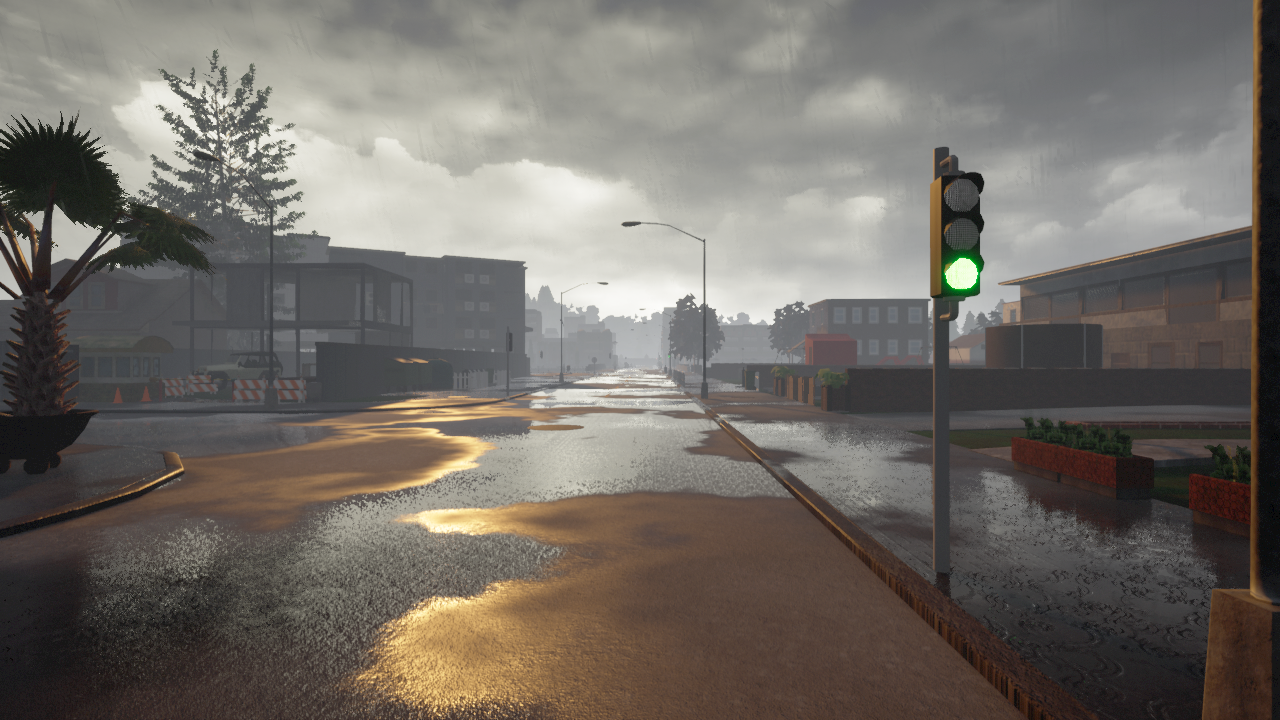green: (922, 172, 984, 298)
